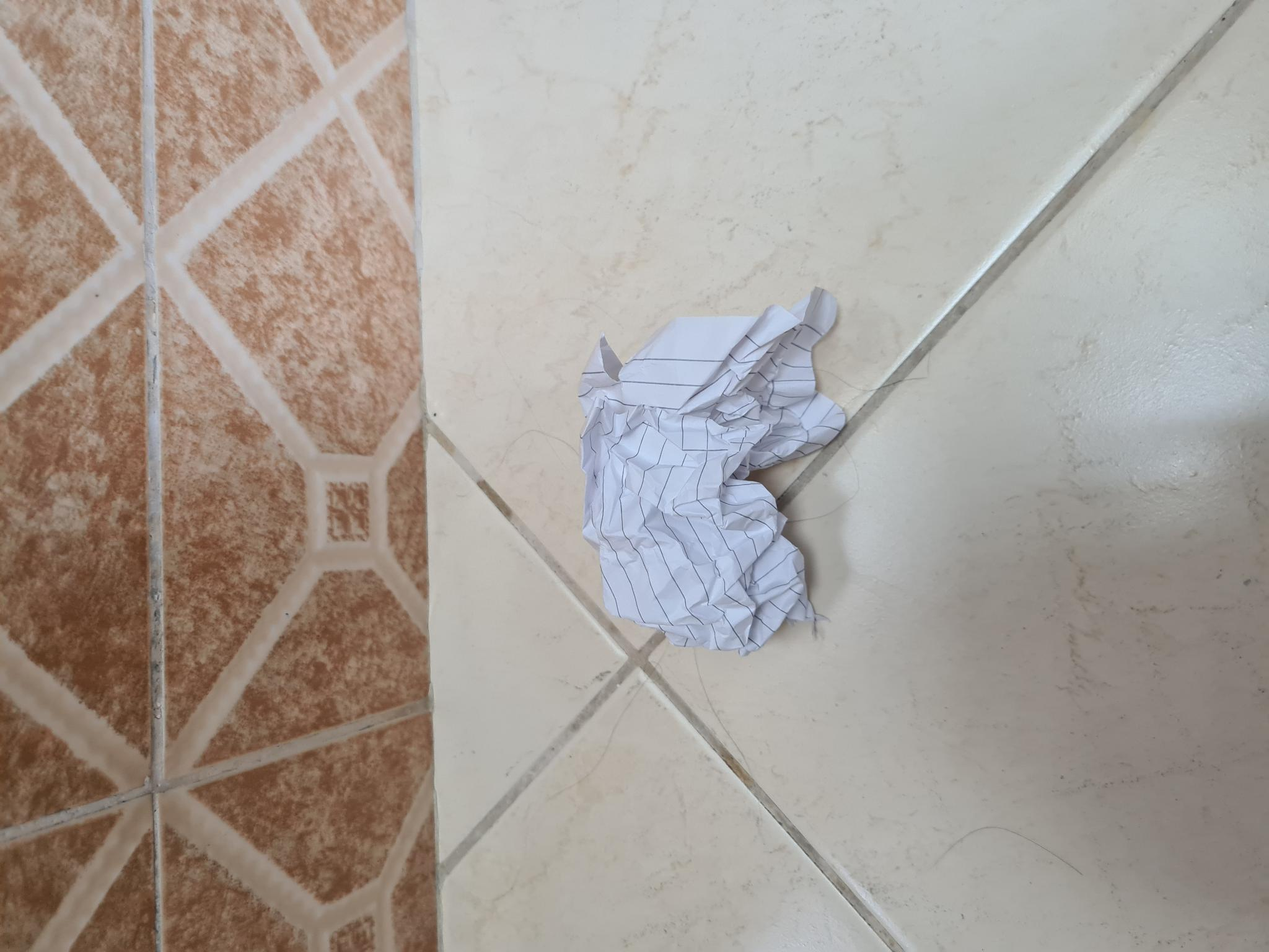Kertas: (312, 577, 643, 848)
